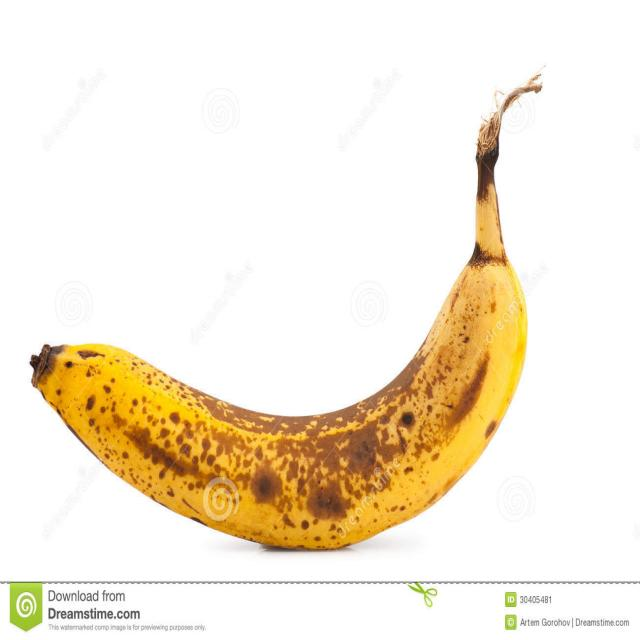Banana: (28, 96, 526, 543)
